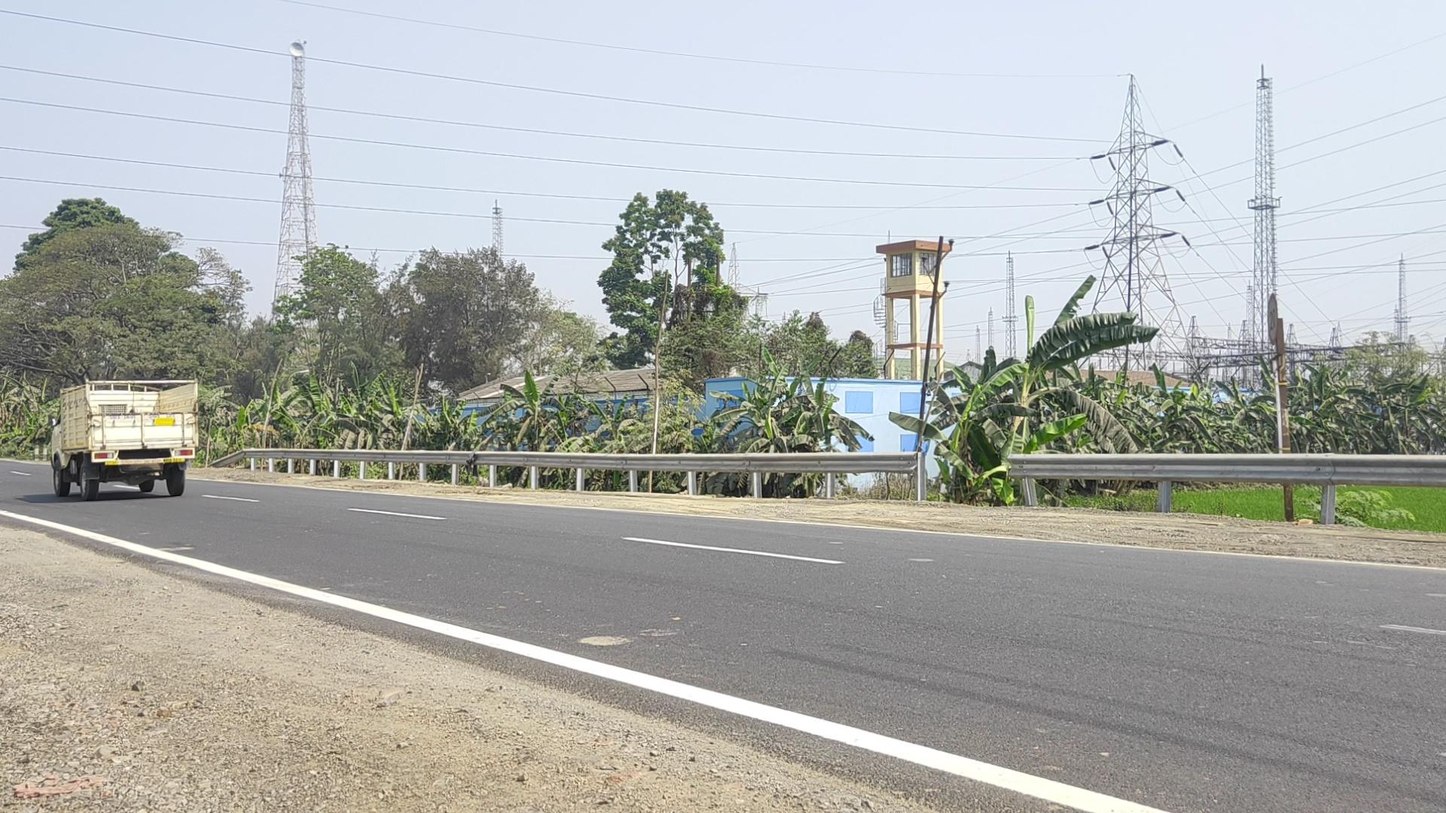van: (50, 379, 199, 503)
